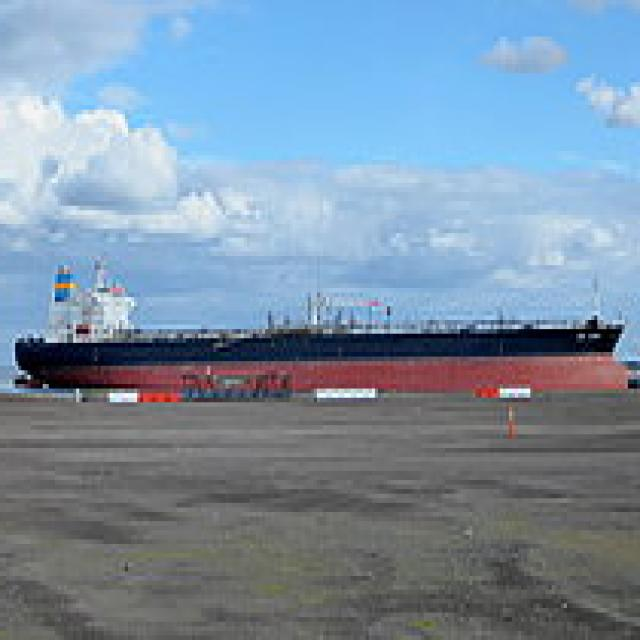Tanker: (12, 247, 637, 398)
